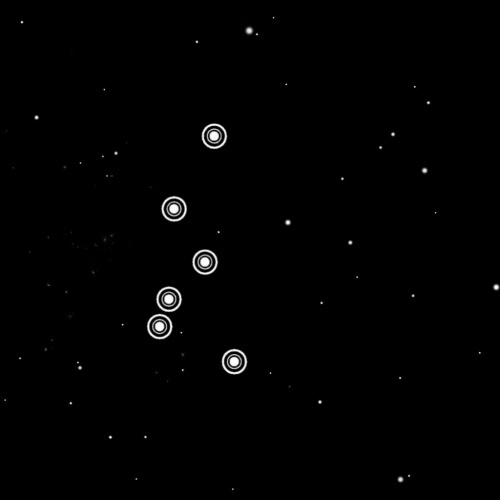cassiopeia: (138, 116, 252, 382)
